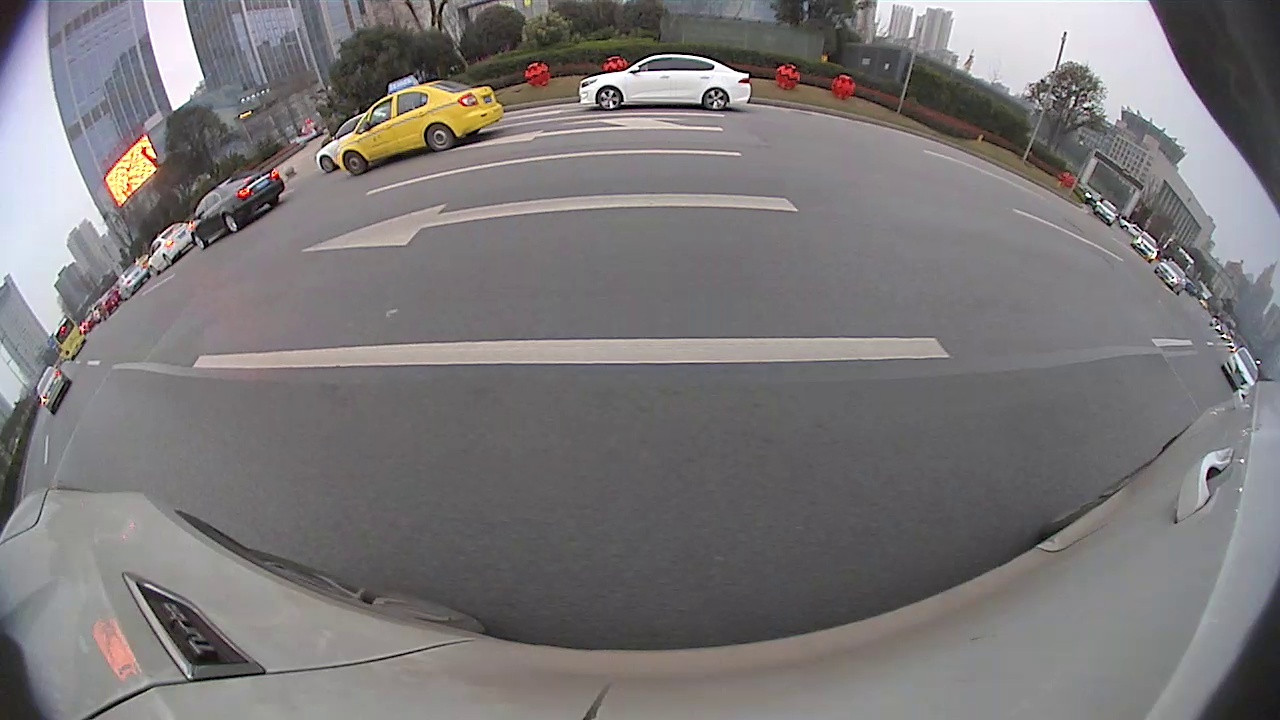car: (335, 77, 503, 178), (576, 53, 756, 114), (186, 168, 285, 252), (314, 107, 391, 177), (147, 222, 193, 278), (35, 364, 74, 415), (1223, 346, 1259, 390), (1155, 258, 1188, 291)
front: (596, 84, 624, 112), (341, 149, 369, 176), (191, 231, 208, 253), (319, 155, 337, 174)
rear: (422, 121, 457, 152), (702, 86, 728, 112), (221, 212, 242, 233), (267, 195, 281, 207)
